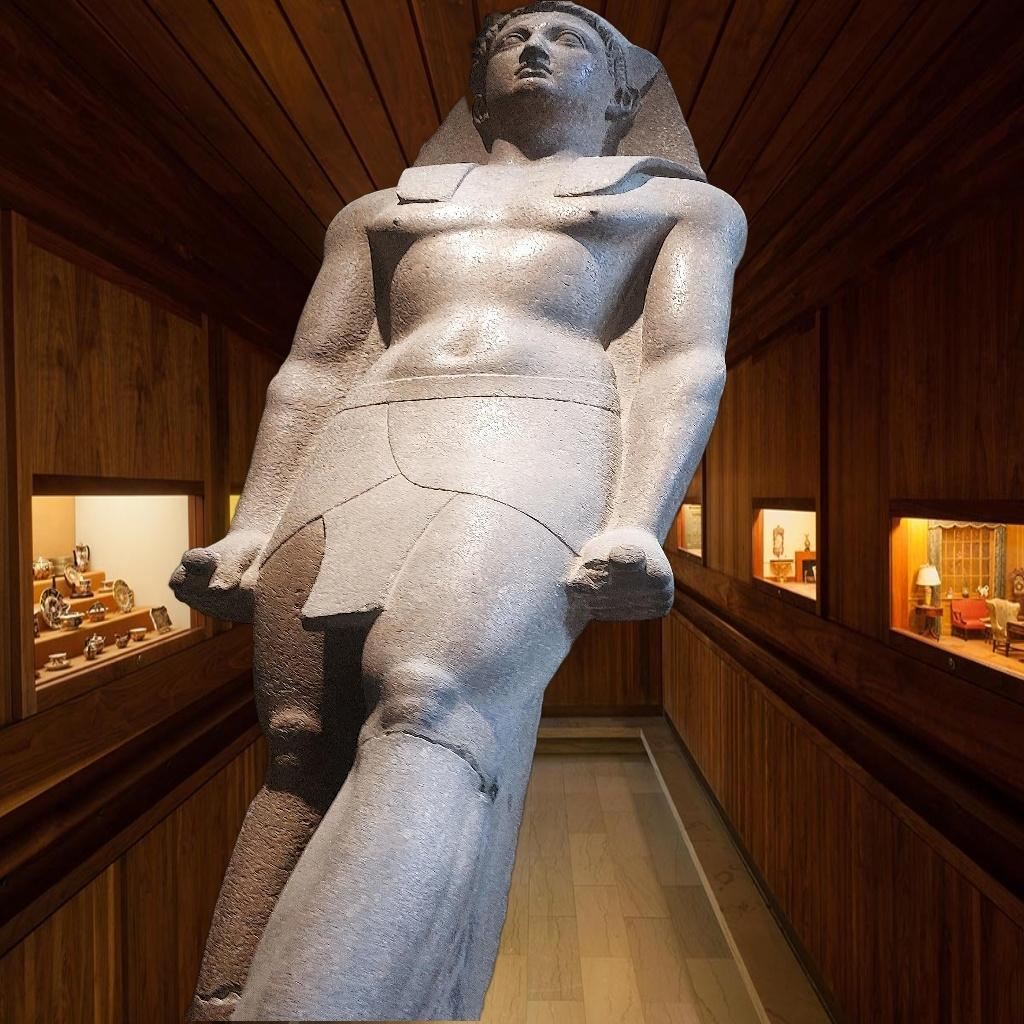Augustus: (164, 2, 750, 1022)
